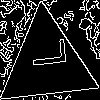L: (22, 38, 67, 70)
